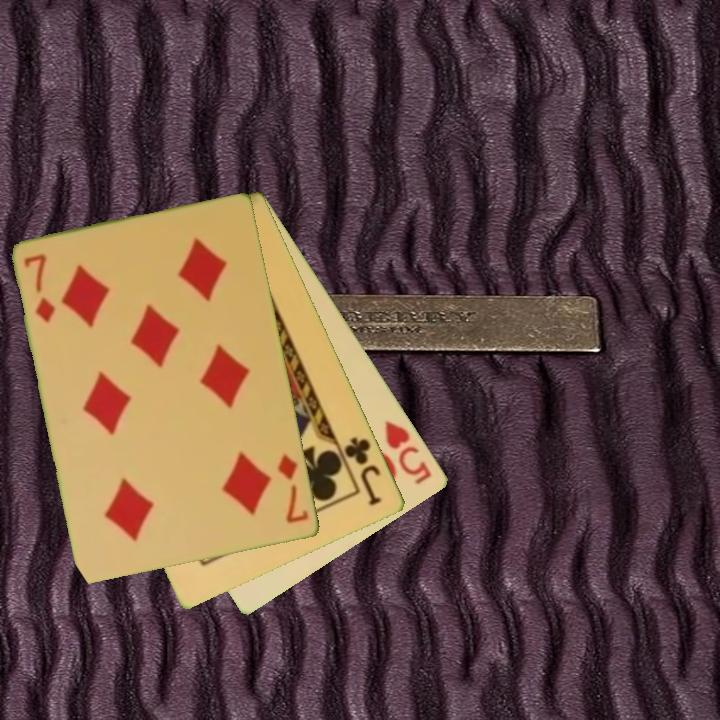5h: (382, 417, 436, 488)
7d: (274, 450, 312, 527), (21, 250, 59, 327)
Jc: (340, 433, 386, 509)
